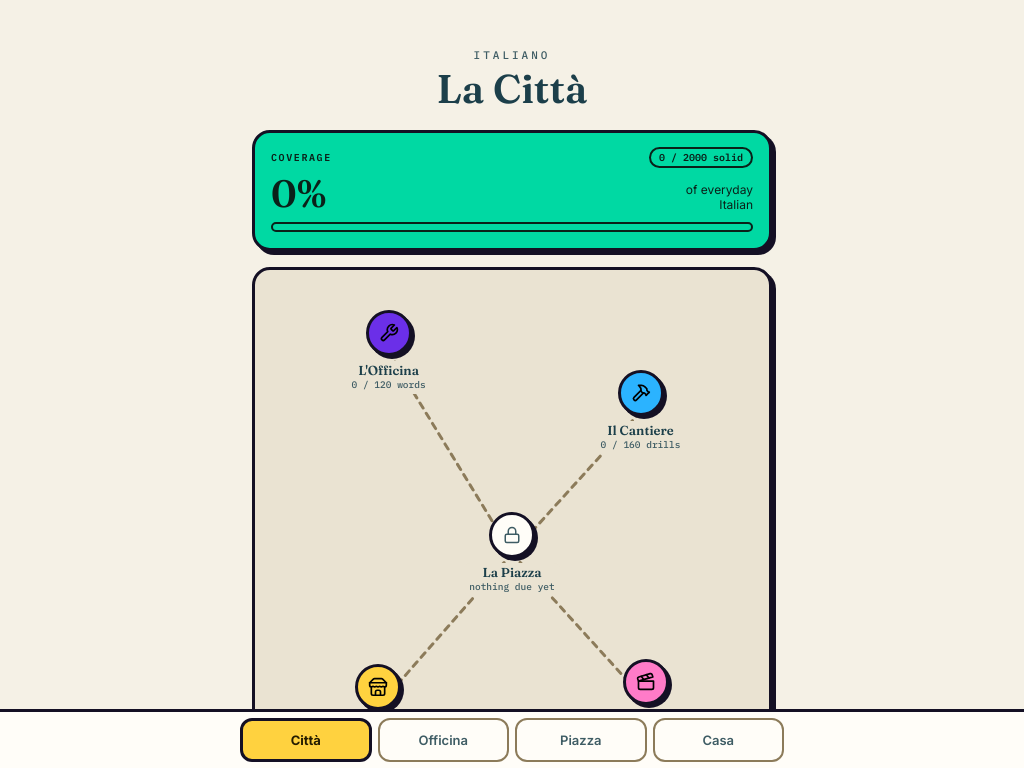
Test: Lo Stadio › shows each rung's evidence as N of 4 items, straight from stageState
Click the button "Casa" at (718, 740), box [652, 718, 784, 762]
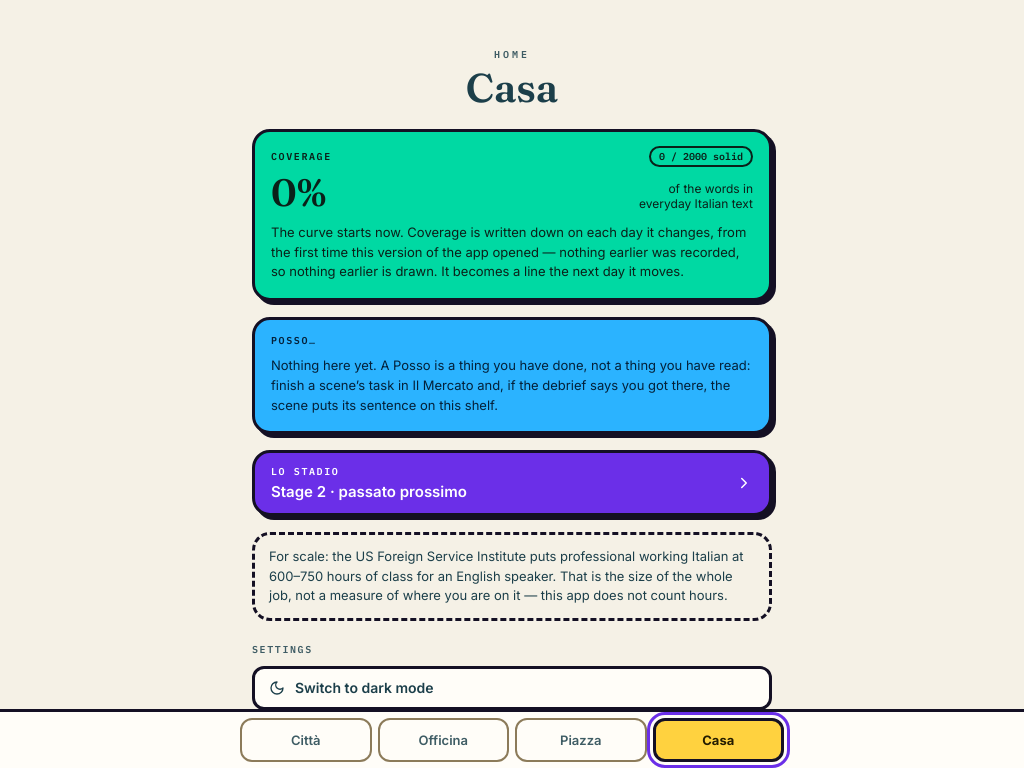
Click the button "Lo Stadio Stage 2 · passato prossimo" at (305, 472), box [252, 450, 772, 516]
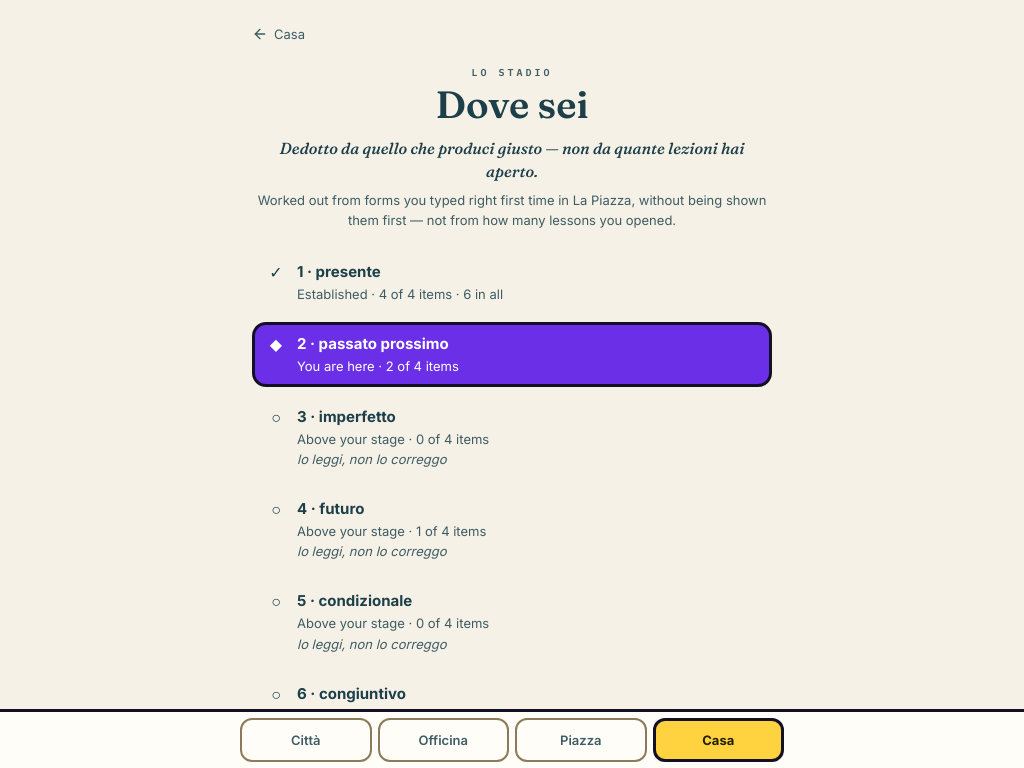
Expected: the list item "✓ 1 · presente Established · 4 of 4 items · 6 in all" is shown, [269, 262, 503, 302]
Expected: the text "%" is gone
Expected: the list item "◆ 2 · passato prossimo You are here · 2 of 4 items" is shown, [252, 322, 772, 387]
